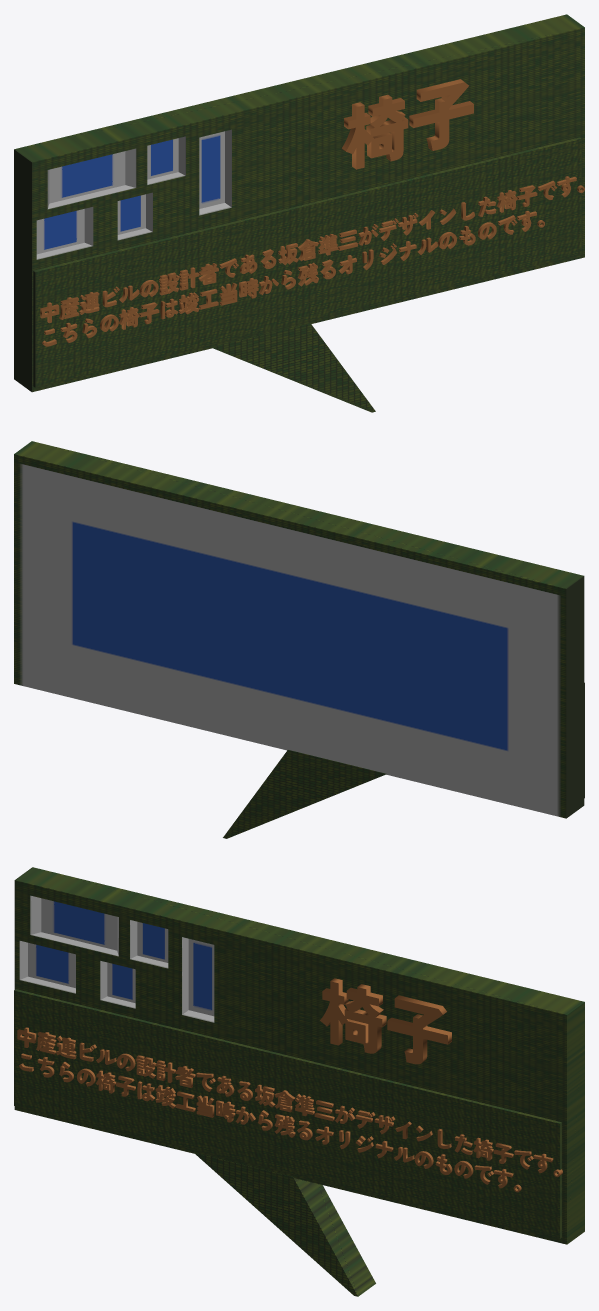
The model's file is fukidasi-isu.glb.
3 renders of one model, top to bottom at view 1: azimuth 30°, elevation 25°; view 2: azimuth 150°, elevation 25°; view 3: azimuth 330°, elevation 25°, orthographic.
Parts seen in each view (by area): view 1: 立方体, 立方体.002, テキスト, テキスト.002, 立方体.001; view 2: 立方体, 立方体.001; view 3: 立方体, 立方体.002, テキスト, 立方体.001, テキスト.002.
Part boxes in pixels (x1,y1,x2,y2): 立方体: (14,14,584,392); 立方体.002: (33,137,581,387); テキスト: (40,176,584,346); テキスト.002: (341,79,473,169); 立方体.001: (211,323,375,412); 立方体: (14,441,584,818); 立方体.001: (223,750,386,838); 立方体: (14,867,584,1244); 立方体.002: (14,989,561,1238); テキスト: (17,1027,562,1192); 立方体.001: (194,1152,375,1296); テキスト.002: (320,978,451,1064).
Size of the model in its own units: 11.12 by 6.4 by 0.7737.
Materials: 4 (3 with a texture image).
